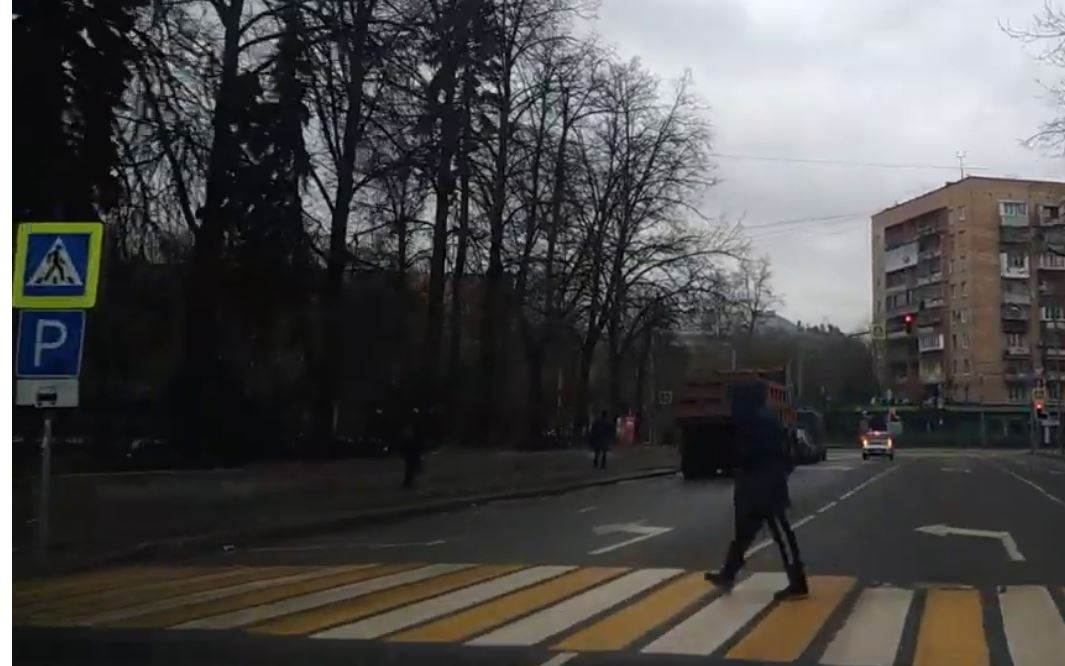Yaya Gecidi: (26, 232, 87, 293)
